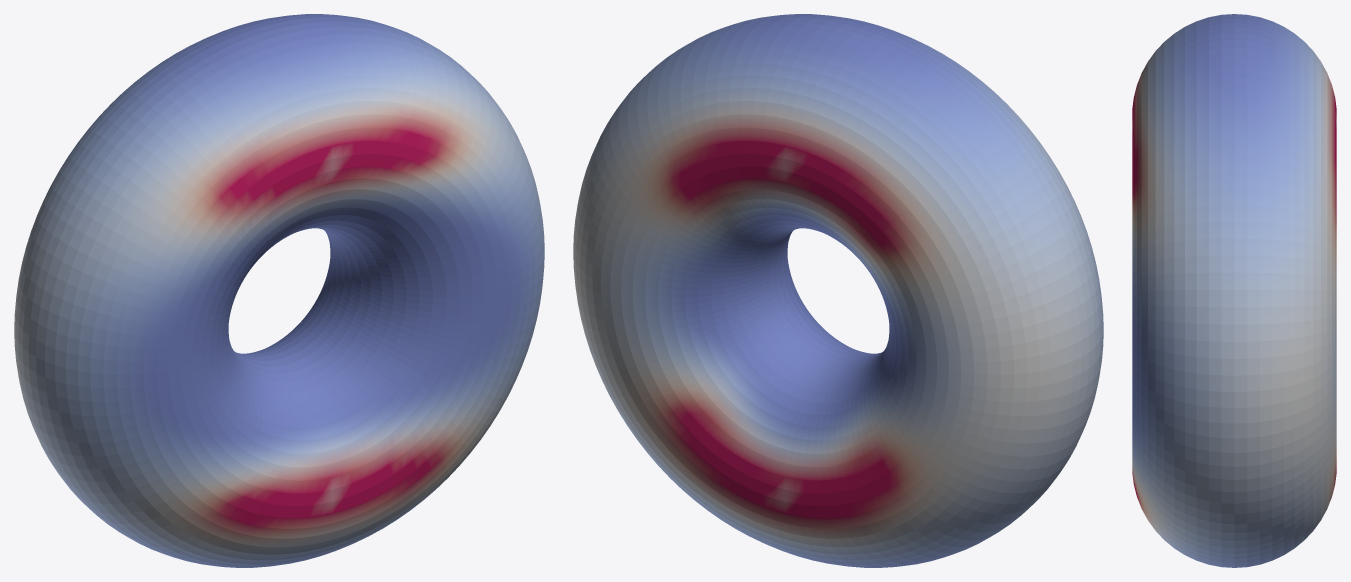
The picture shows the model from 3 angles, left to right: view 1: azimuth 30°, elevation 25°; view 2: azimuth 150°, elevation 25°; view 3: azimuth 270°, elevation 25°; orthographic projection. The views are drawn at different scales.
Visible parts, largest first — view 1: world; view 2: world; view 3: world.
Part boxes in pixels (x1,y1,x2,y2): world: (14,14,544,567); world: (573,14,1103,567); world: (1132,14,1336,567).
Size of the model in its own units: 16.93 by 16.93 by 6.25.
